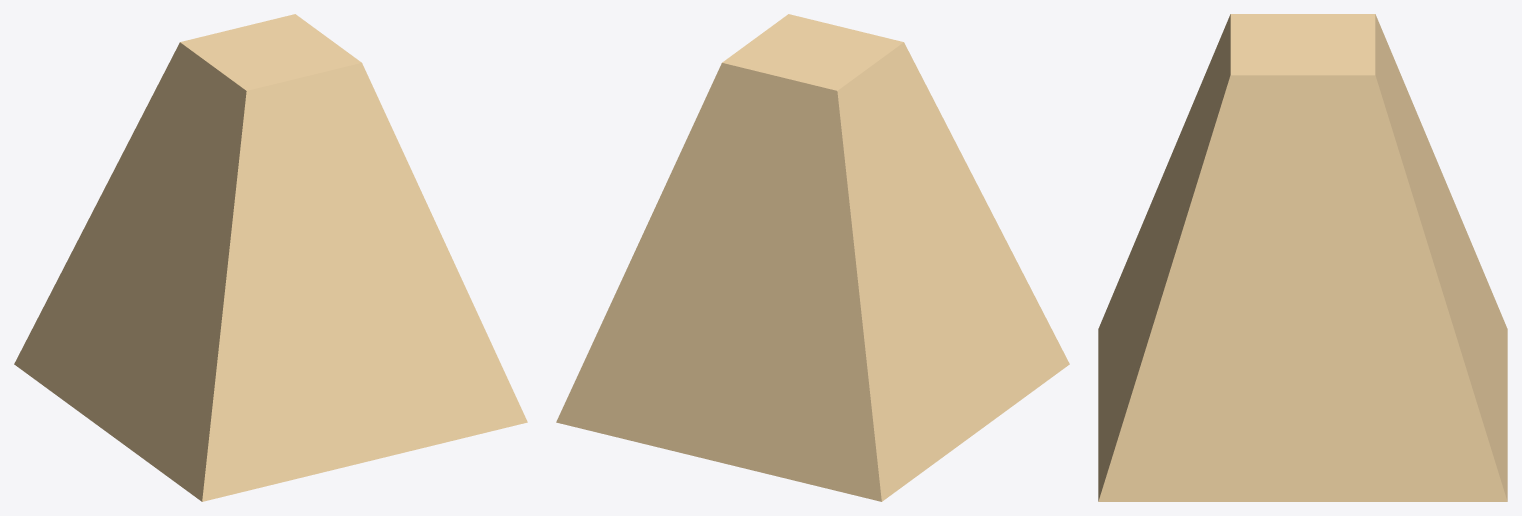
Rendered from Stone_2.fbx.
The picture shows the model from 3 angles, left to right: view 1: azimuth 30°, elevation 25°; view 2: azimuth 150°, elevation 25°; view 3: azimuth 270°, elevation 25°; orthographic projection. The views are drawn at different scales.
Visible parts, largest first — view 1: Stone.001; view 2: Stone.001; view 3: Stone.001.
Boxes of the visible parts, x1,y1,x2,y2 form: Stone.001: (14,14,527,501); Stone.001: (556,14,1069,501); Stone.001: (1098,14,1507,501).
Size of the model in its own units: 100 by 100 by 100.
